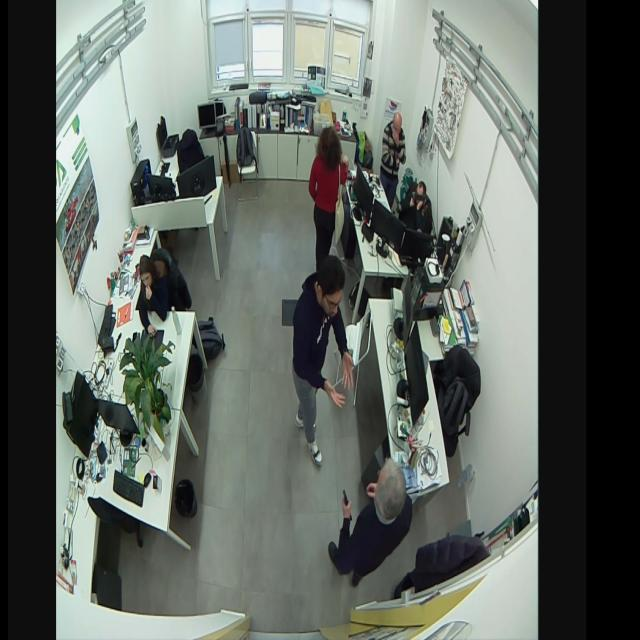Persona: (288, 252, 355, 468), (325, 453, 415, 591), (308, 124, 352, 252), (136, 251, 174, 339), (378, 111, 407, 202)
